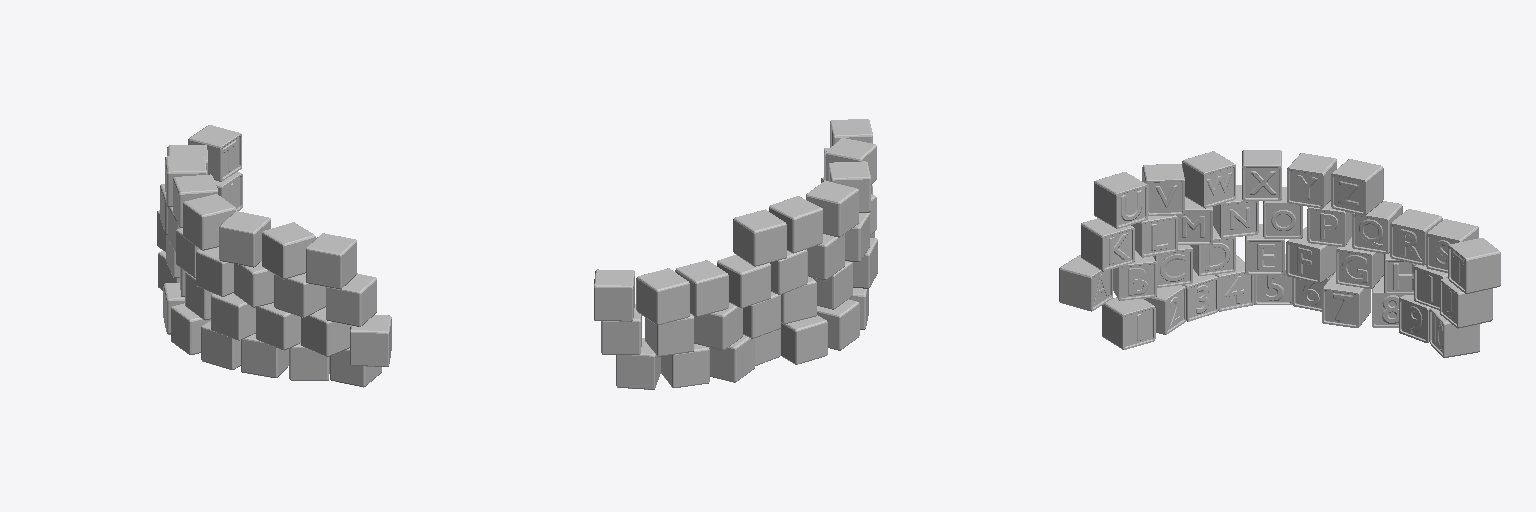
File: toyBlocks.obj
3 renders of one model, left to right at view 1: azimuth 30°, elevation 25°; view 2: azimuth 150°, elevation 25°; view 3: azimuth 270°, elevation 25°, orthographic.
Visible parts, largest first — view 1: C; view 2: C; view 3: C.
Boxes of the visible parts, x1=… form: C: x1=157, y1=125, x2=391, y2=387; C: x1=594, y1=119, x2=877, y2=389; C: x1=1059, y1=150, x2=1500, y2=357.
Bounding box in the file's own units: 25.73 × 22.24 × 62.12.